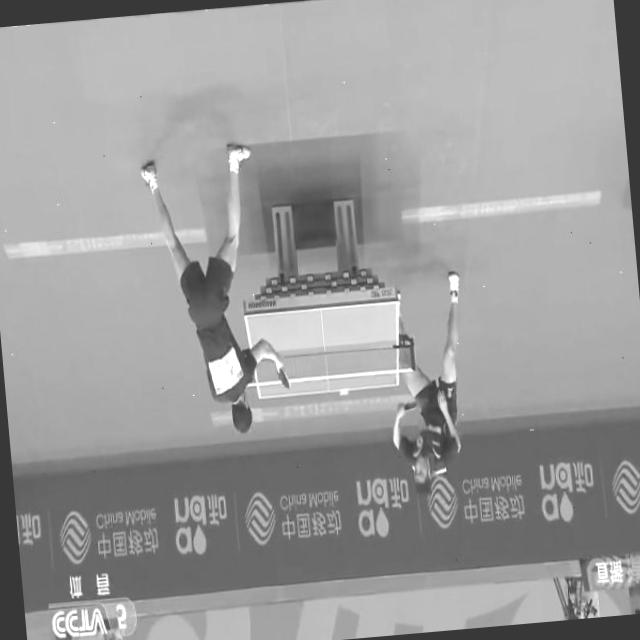ping-pong-ball: (338, 386, 347, 400)
